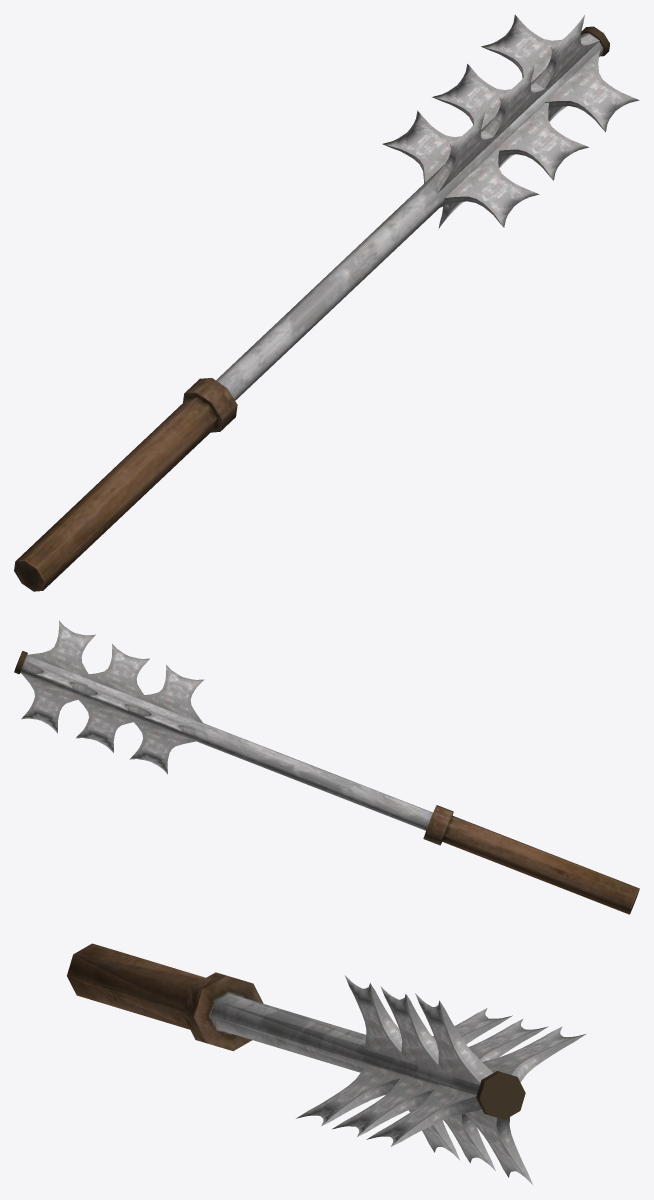
File: weapon-bronzeweapons.glb
3 renders of one model, top to bottom at view 1: azimuth 30°, elevation 25°; view 2: azimuth 150°, elevation 25°; view 3: azimuth 270°, elevation 25°, orthographic. The views are drawn at different scales.
Bounding box in the file's own units: 1.56 × 0.6745 × 0.6692.
Materials: 1 (1 with a texture image).
